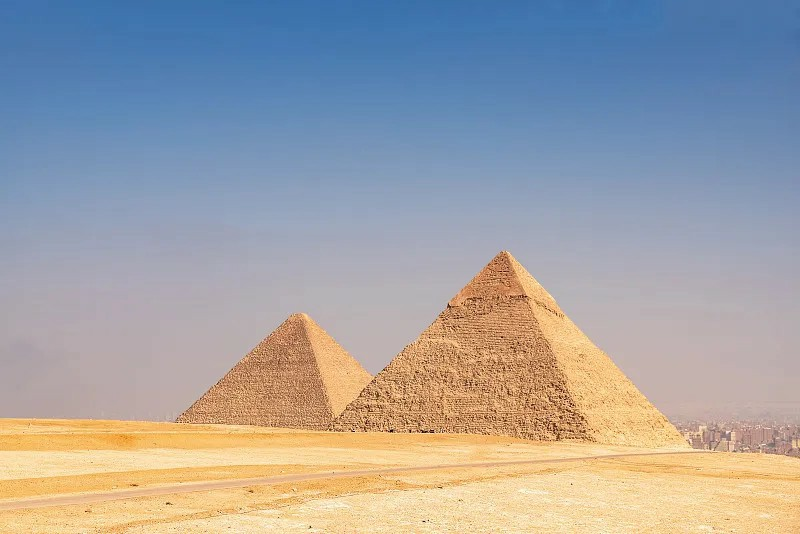Pyramid: (326, 251, 690, 445), (174, 311, 376, 432)
